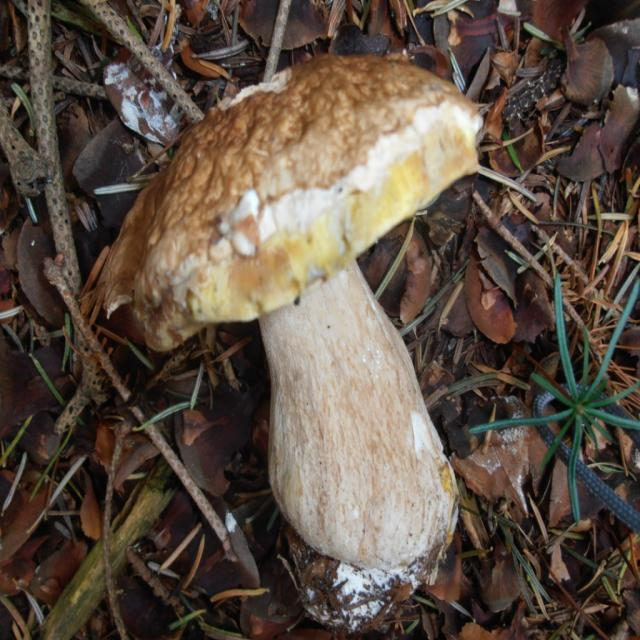Boletus: (100, 55, 484, 627)
